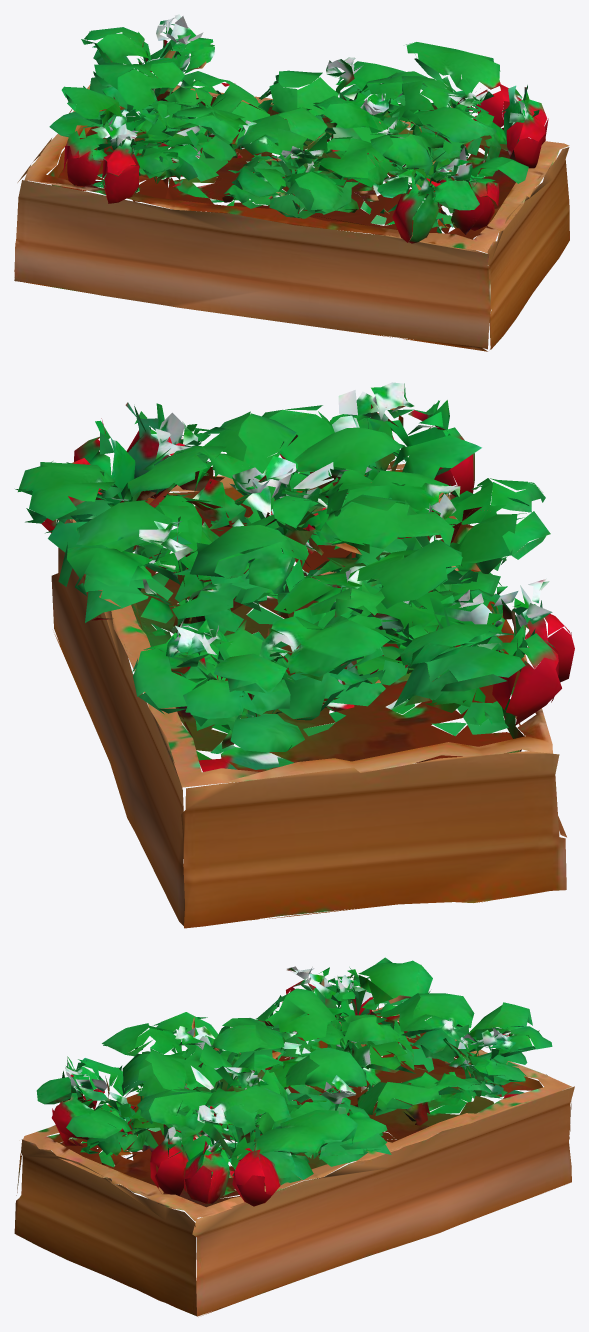
File: planter.glb
3 renders of one model, top to bottom at view 1: azimuth 30°, elevation 25°; view 2: azimuth 150°, elevation 25°; view 3: azimuth 270°, elevation 25°, orthographic. The views are drawn at different scales.
Visible parts, largest first — view 1: tmppt5_p1n2.ply; view 2: tmppt5_p1n2.ply; view 3: tmppt5_p1n2.ply.
Part boxes in pixels (x1,y1,x2,y2): tmppt5_p1n2.ply: (14,14,569,351); tmppt5_p1n2.ply: (15,382,574,928); tmppt5_p1n2.ply: (14,957,574,1316).
Size of the model in its own units: 1.87 by 0.6971 by 2.01.
Materials: 1 (1 with a texture image).
